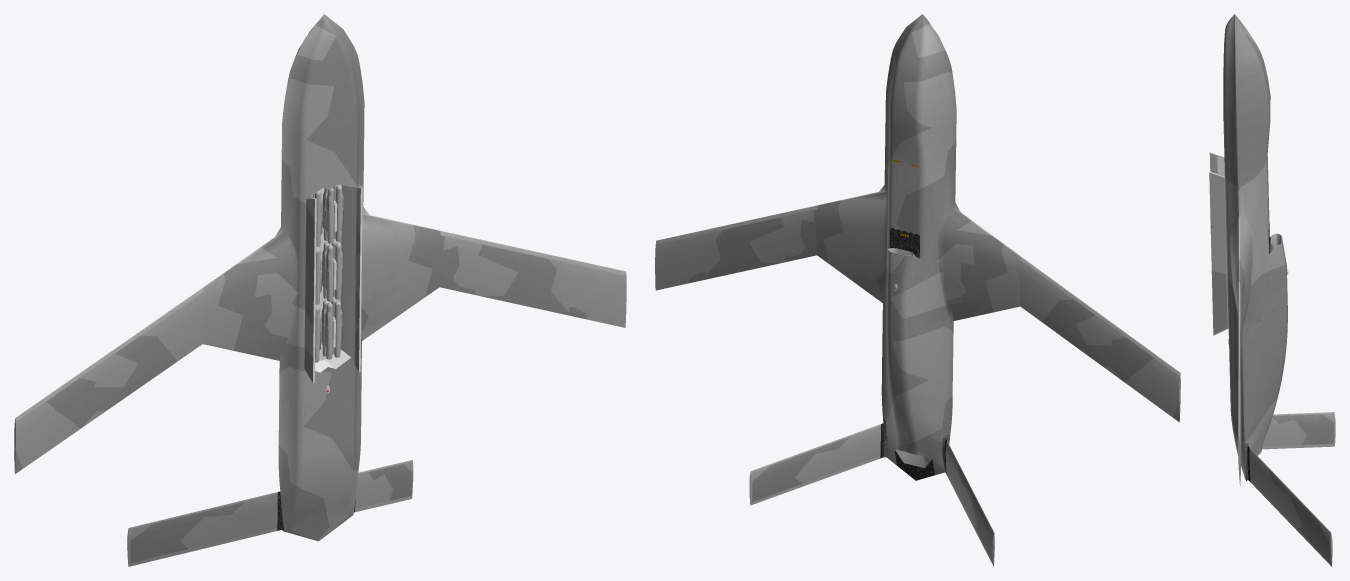
File: UCAV.dae
3 renders of one model, left to right at view 1: azimuth 30°, elevation 25°; view 2: azimuth 150°, elevation 25°; view 3: azimuth 270°, elevation 25°, orthographic. The views are drawn at different scales.
Parts seen in each view (by area): view 1: Component_3 (×3), Component_14 (×3), Component_7, Right_weapons_door_A, Left_weapons_door_A, Left_weapons_door_B; view 2: Component_3 (×3), Component_14 (×3); view 3: Component_3 (×2), Component_14 (×4), Left_weapons_door_A (×2).
Boxes of the visible parts, <box> form: Component_3 (×3): <box>14,14,626,541</box>; Component_14 (×3): <box>127,462,412,566</box>; Component_7: <box>315,184,352,372</box>; Right_weapons_door_A: <box>305,199,314,381</box>; Left_weapons_door_A: <box>351,187,362,371</box>; Left_weapons_door_B: <box>355,188,360,370</box>; Component_3 (×3): <box>655,14,1180,475</box>; Component_14 (×3): <box>749,424,992,562</box>; Component_3 (×2): <box>1223,14,1287,486</box>; Component_14 (×4): <box>1249,412,1335,566</box>; Left_weapons_door_A (×2): <box>1209,172,1228,335</box>.
Size of the model in its own units: 788 by 162 by 695.
11 materials, 2 textured.
